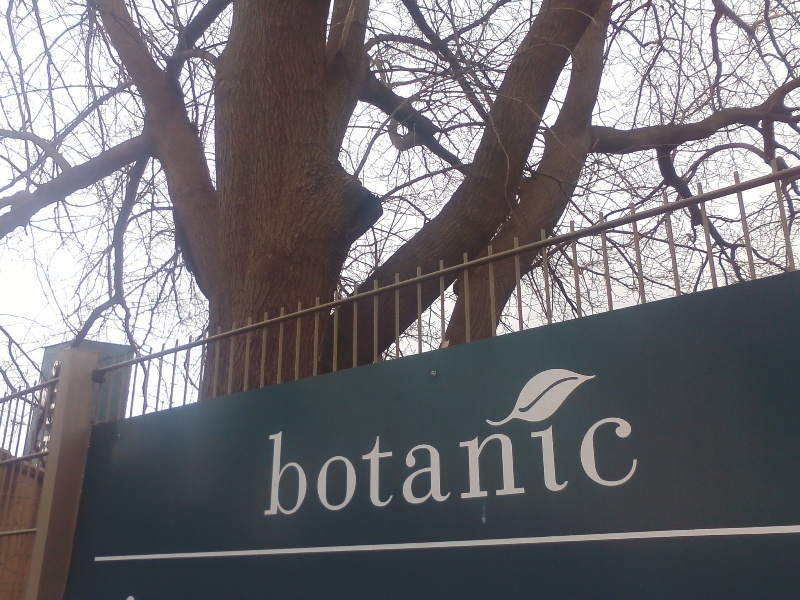text: (273, 417, 288, 518), (289, 417, 304, 518), (305, 417, 320, 518), (321, 417, 336, 518), (337, 417, 352, 518), (353, 417, 368, 518), (369, 417, 384, 518), (385, 417, 400, 518), (401, 417, 416, 518), (417, 417, 432, 518), (433, 417, 448, 518), (449, 417, 464, 518), (465, 417, 480, 518), (481, 417, 496, 518), (497, 417, 512, 518), (513, 417, 528, 518), (529, 417, 544, 518), (545, 417, 560, 518), (561, 417, 576, 518), (577, 417, 592, 518), (593, 417, 608, 518), (609, 417, 624, 518), (625, 417, 640, 518), (268, 417, 272, 518), (641, 417, 642, 518)
